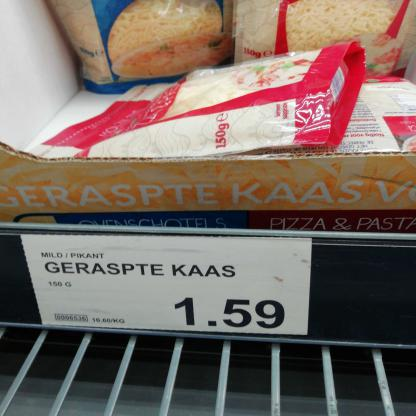prtg: (21, 235, 313, 337)
